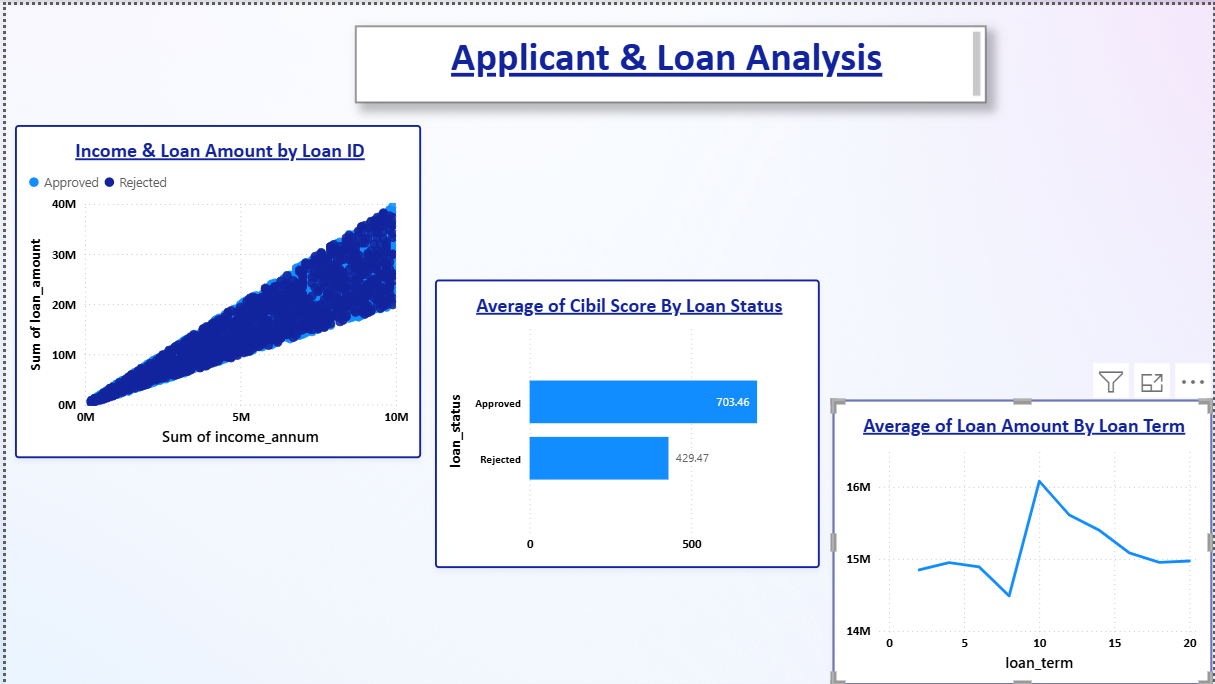

This screenshot's page, from the dashboard's own definition file:
{"tool":"powerbi","page":{"name":"Page 2","canvas":[1280,720],"ordinal":1},"visuals":[{"type":"scatterChart","title":"Income & Loan Amount by Loan ID","fields":{"X":["Sum(cleaned_loan_data.income_annum)"],"Y":["Sum(cleaned_loan_data.loan_amount)"],"Category":["cleaned_loan_data.loan_id"],"Series":["cleaned_loan_data.loan_status"]},"box":[9.4,126.6,430.9,353.4],"z":0},{"type":"clusteredBarChart","title":"Average of Cibil Score By Loan Status","fields":{"Category":["cleaned_loan_data.loan_status"],"Y":["Avg(cleaned_loan_data.cibil_score)"]},"box":[455.4,291,408.2,306.1],"z":1000},{"type":"lineChart","title":"Average of Loan Amount By Loan Term","fields":{"Category":["cleaned_loan_data.loan_term"],"Y":["Avg(cleaned_loan_data.loan_amount)"]},"box":[876.9,417.6,402.5,302.4],"z":2000},{"type":"textbox","box":[370.4,22.7,669,81.3],"z":2001}]}

Visuals, with their boxes in screenshot pixels (x1, y1, x2, y2), scaled from the page's 1280x720 canvas onto the 1215x684 screenshot:
"Income & Loan Amount by Loan ID" scatterChart: <bbox>9, 120, 418, 456</bbox>
"Average of Cibil Score By Loan Status" clusteredBarChart: <bbox>432, 276, 820, 567</bbox>
"Average of Loan Amount By Loan Term" lineChart: <bbox>832, 397, 1214, 683</bbox>
textbox: <bbox>352, 22, 987, 99</bbox>
